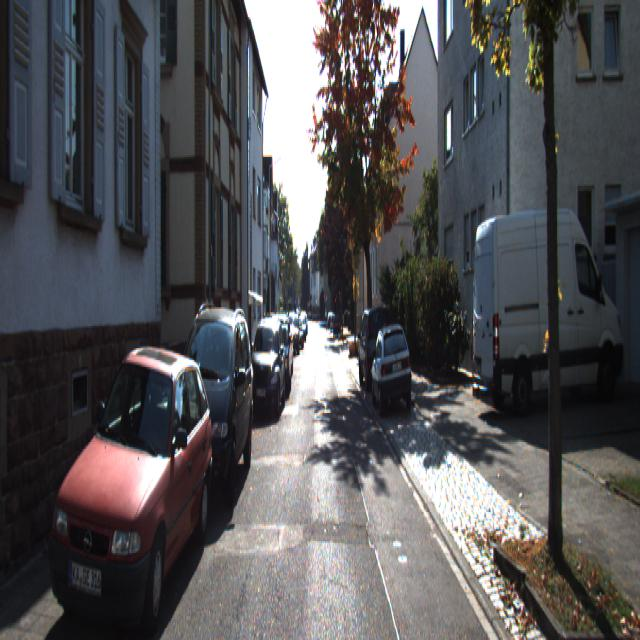Car: (42, 336, 218, 638), (468, 199, 627, 422), (164, 296, 260, 516), (368, 322, 414, 421), (246, 310, 287, 420), (357, 303, 393, 393), (265, 311, 293, 397)
